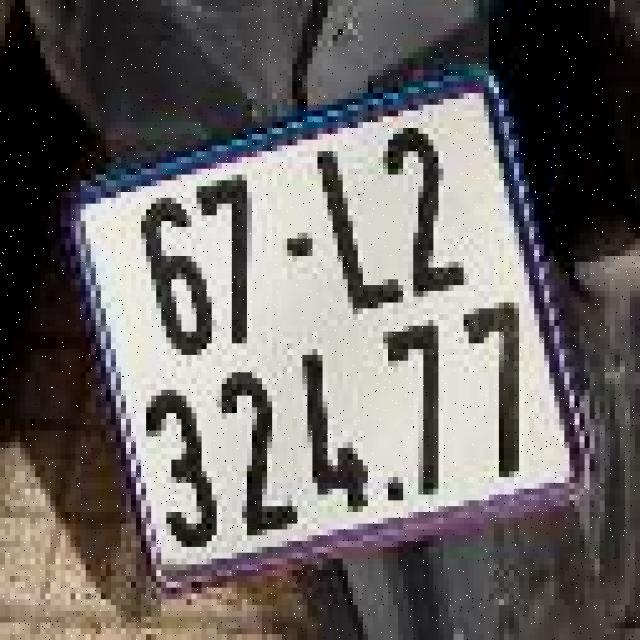2: (367, 105, 485, 311), (207, 353, 312, 547)
3: (131, 373, 229, 562)
4: (286, 336, 380, 520)
6: (127, 178, 222, 371)
7: (454, 289, 542, 487), (377, 305, 463, 504), (190, 162, 274, 355)
L: (295, 118, 419, 327)
